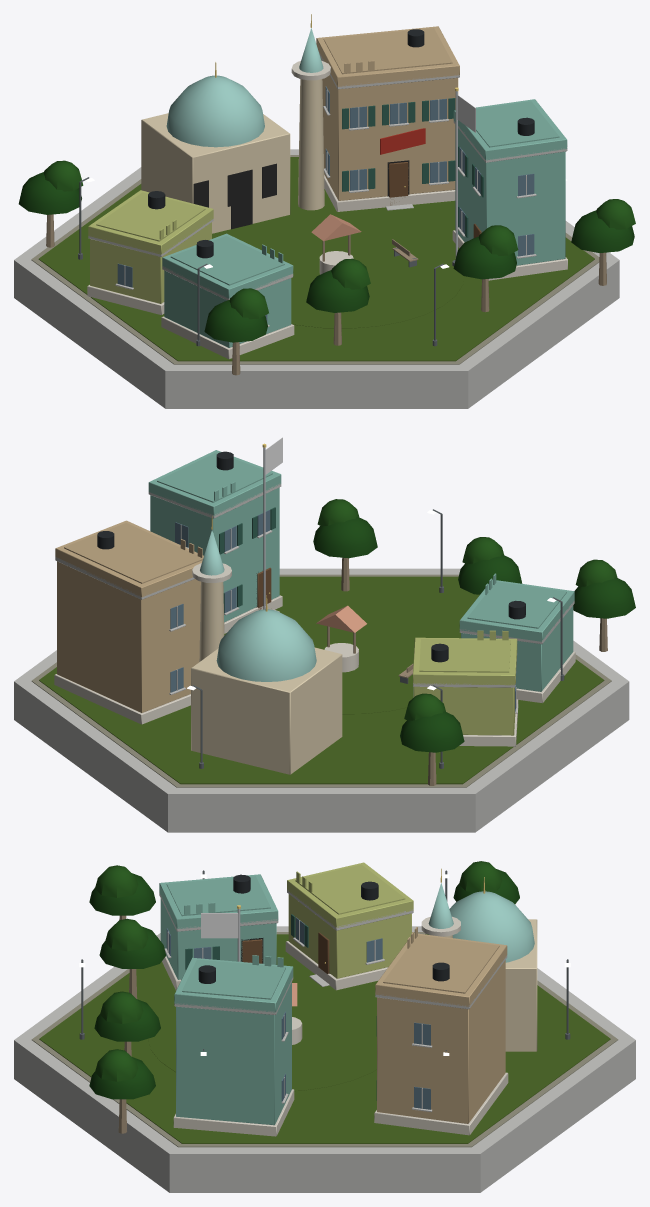
Rendered from villageCenter_india.glb.
The picture shows the model from 3 angles, top to bottom: view 1: azimuth 30°, elevation 25°; view 2: azimuth 150°, elevation 25°; view 3: azimuth 270°, elevation 25°; orthographic projection. The views are drawn at different scales.
Parts seen in each view (by area): view 1: plaster, turf, wall_concrete, leaf, copper, stone, wood, pavers, glass, dark, paint, steel_dark (+1 smaller); view 2: plaster, wall_concrete, turf, leaf, copper, stone, pavers, wood, glass, paint, steel_dark, roof_tile; view 3: plaster, wall_concrete, turf, leaf, stone, copper, pavers, wood, glass, paint, banner, steel_dark.
Part boxes in pixels (x1,y1,x2,y2): plaster: (88,26,567,347); turf: (38,157,594,361); wall_concrete: (14,52,619,408); leaf: (18,160,635,342); copper: (166,28,323,147); stone: (87,61,567,359); wood: (46,98,606,375); pavers: (31,155,599,364); glass: (117,86,534,322); dark: (193,160,409,229); paint: (148,29,534,258); steel_dark: (78,177,455,346); plaster: (55,450,574,774); wall_concrete: (14,483,629,832); turf: (39,576,604,784); leaf: (313,499,635,752); copper: (200,530,316,681); stone: (54,563,575,746); pavers: (31,574,611,787); wood: (219,507,607,785); glass: (170,510,515,711); paint: (97,451,525,662); steel_dark: (192,509,564,768); roof_tile: (316,605,366,632); plaster: (159,862,537,1125); wall_concrete: (14,889,635,1192); turf: (39,934,610,1143); leaf: (89,861,519,1099); stone: (162,916,508,1136); copper: (428,883,534,962); pavers: (31,932,618,1147); wood: (118,914,376,1133); glass: (166,917,430,1109); paint: (198,874,449,983); banner: (201,913,238,938); steel_dark: (79,870,570,1051).
Bounding box in the file's own units: 21.3 × 10.3 × 24.6.
